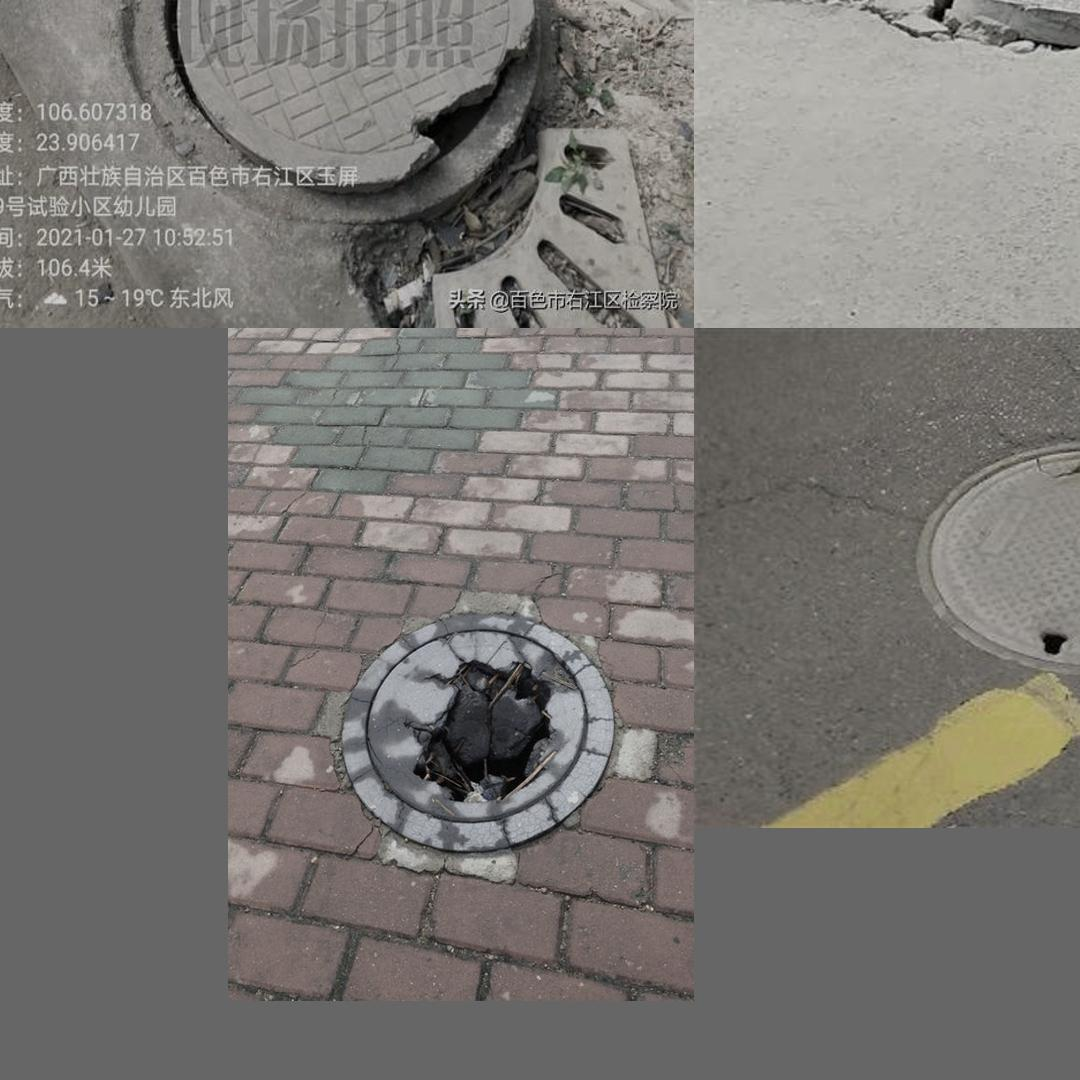broke: (102, 0, 572, 239), (329, 600, 632, 853), (903, 426, 1080, 684), (861, 0, 1080, 106)
